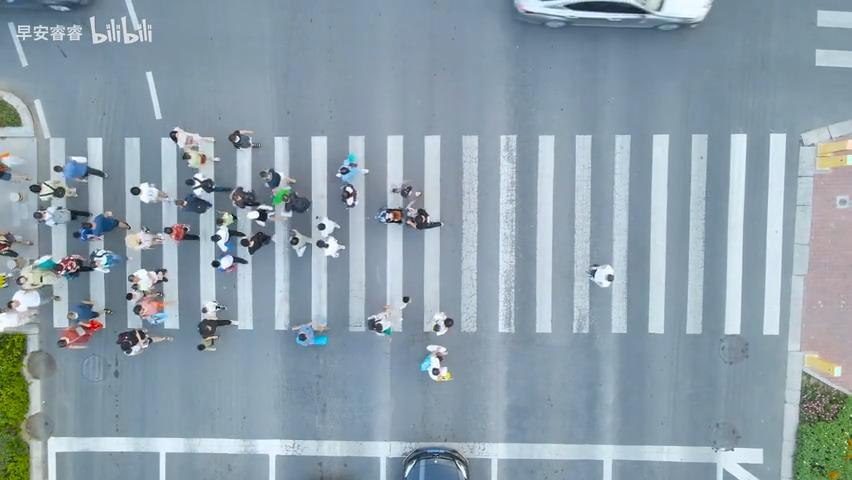Civilian: (165, 129, 223, 168), (366, 295, 411, 342), (334, 152, 369, 208), (49, 318, 105, 352), (196, 299, 232, 351), (72, 210, 130, 241), (1, 285, 65, 312), (115, 327, 173, 356), (53, 155, 108, 184), (184, 169, 235, 200), (27, 174, 83, 202), (121, 260, 169, 292), (17, 261, 68, 289), (129, 295, 174, 325), (235, 227, 275, 260), (126, 177, 170, 207), (581, 257, 615, 294), (420, 343, 452, 381), (65, 297, 106, 326), (313, 236, 351, 267), (31, 201, 77, 226), (373, 199, 403, 236), (283, 227, 312, 263), (291, 320, 329, 347), (390, 176, 428, 203), (174, 193, 212, 219), (210, 249, 247, 275), (258, 166, 296, 191), (127, 229, 158, 257), (206, 225, 237, 252), (405, 207, 443, 229), (209, 208, 244, 231), (161, 220, 192, 244), (314, 211, 340, 239), (424, 311, 453, 336), (227, 129, 260, 149)
